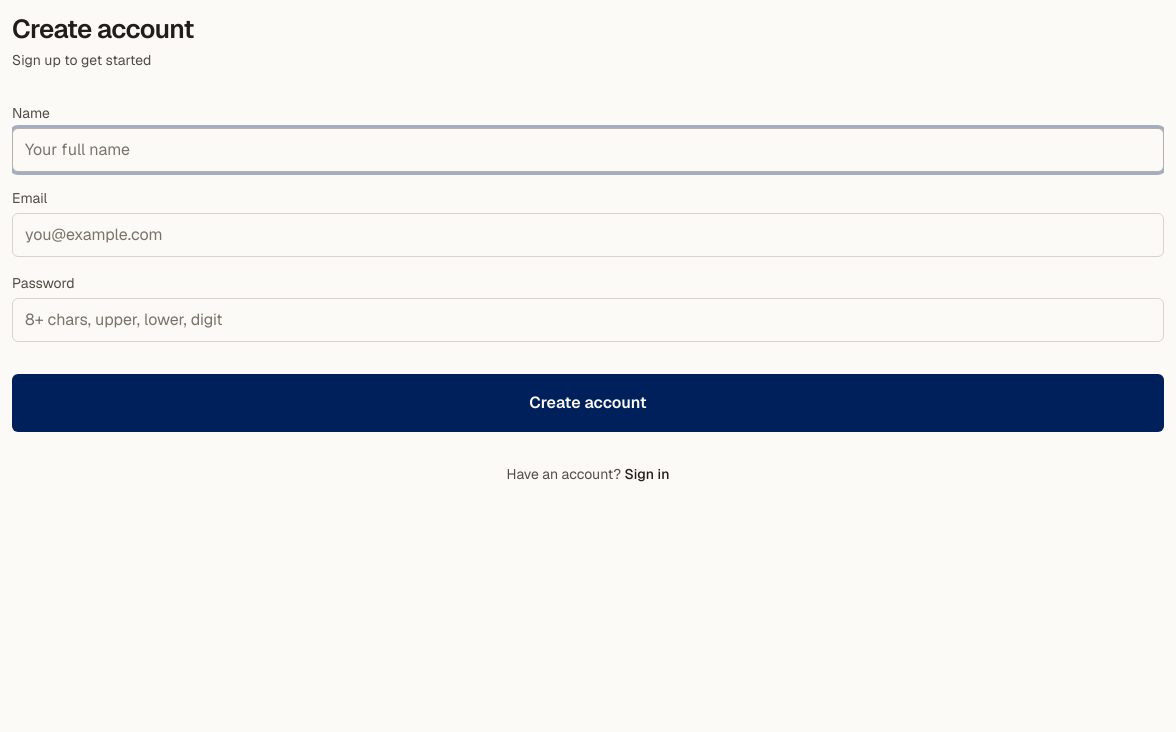
RegisterPage › validates required fields
Click the button "Create account" at (588, 403), box [12, 374, 1164, 432]
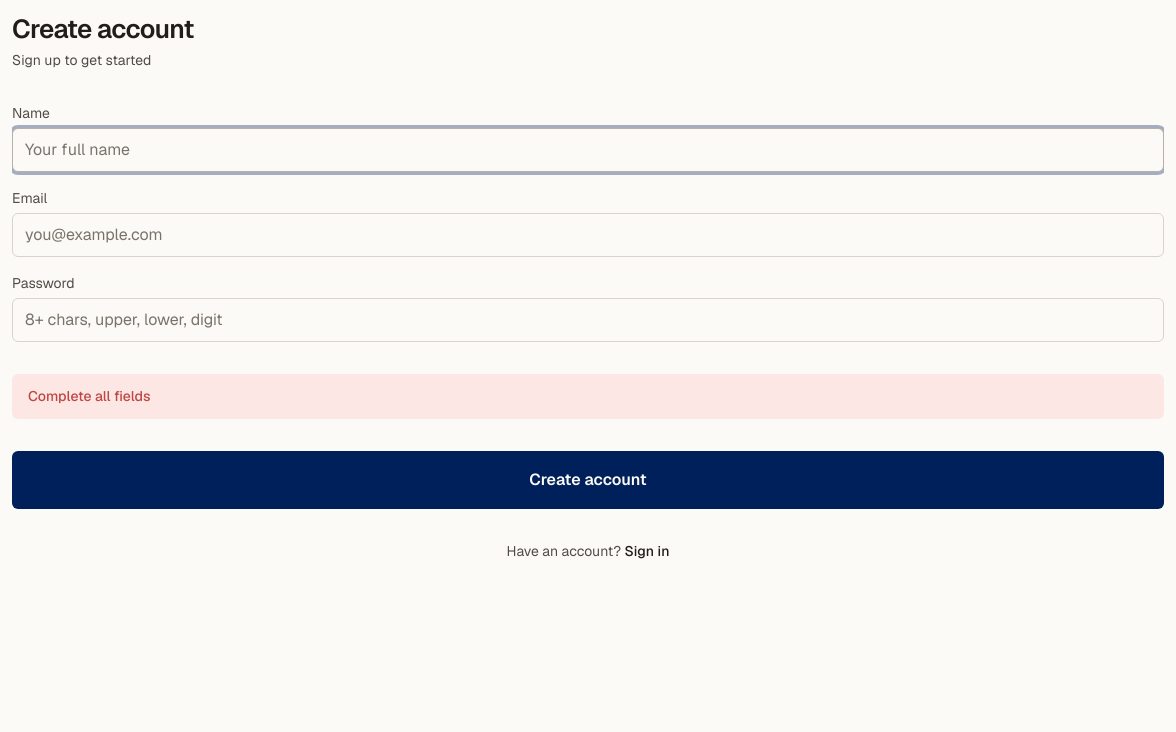
Now the message reads "Complete all fields", box [28, 387, 150, 405]
